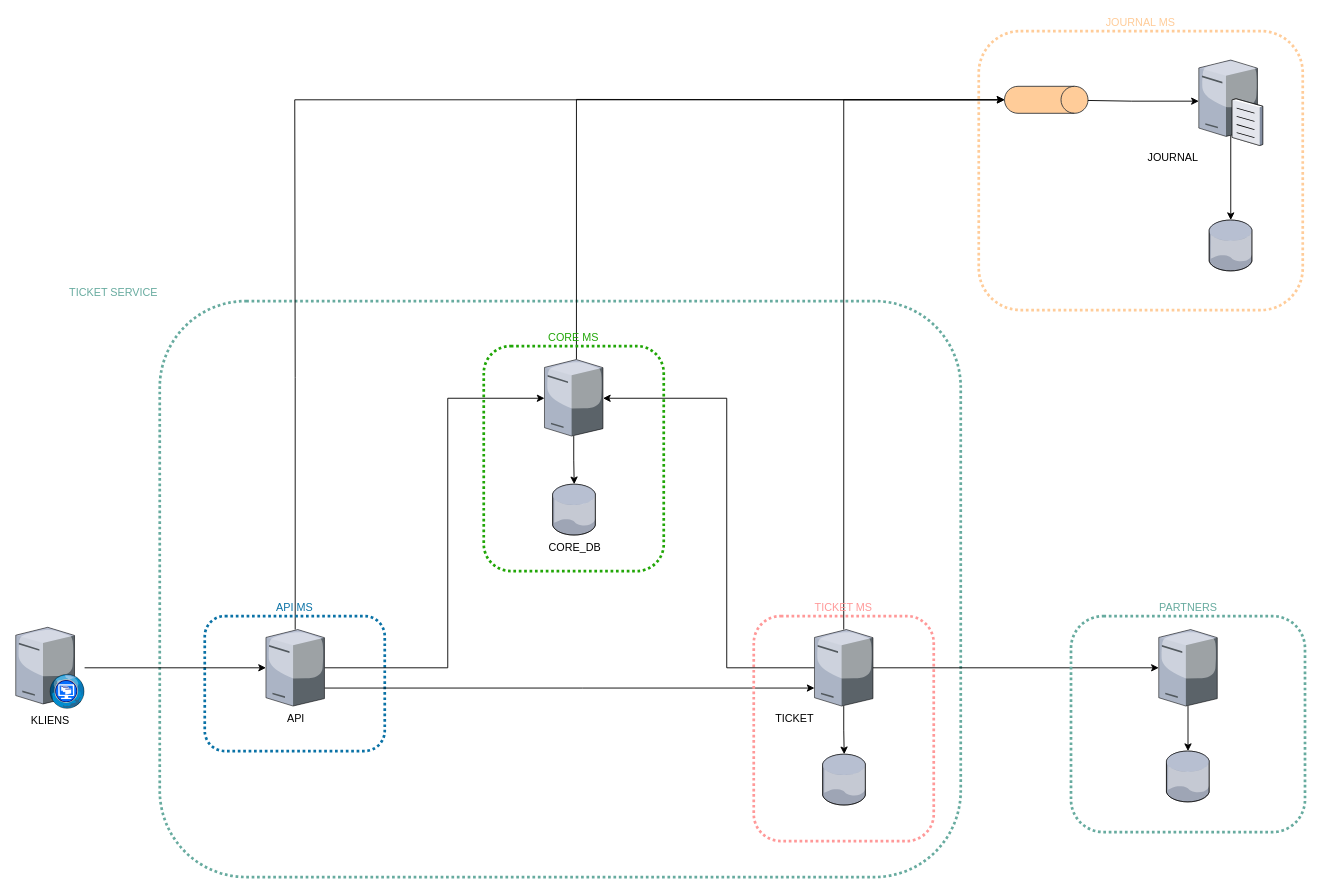
Some shapes in this 1321 by 894 pixel diagram are drawn without their labels. Here are the shapes that lost their labels. From the top down, the centre of each, then its label:
At (1046,99): "LG_JOURNAL".
At (1230,245): "JOURNAL_DB".
At (573,397): "CORE".
At (1187,667): "PARTNER".
At (843,779): "TICKET_DB".
At (1187,776): "PARTNER_DB".
